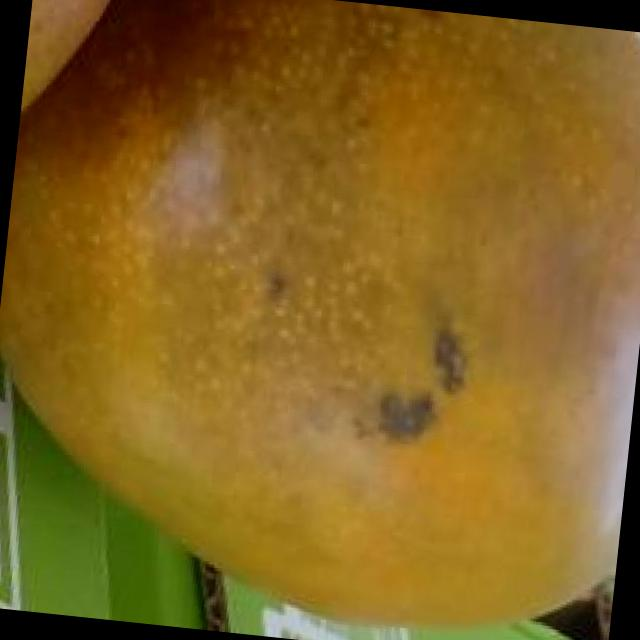Mango: (0, 0, 640, 640), (20, 0, 120, 121)
